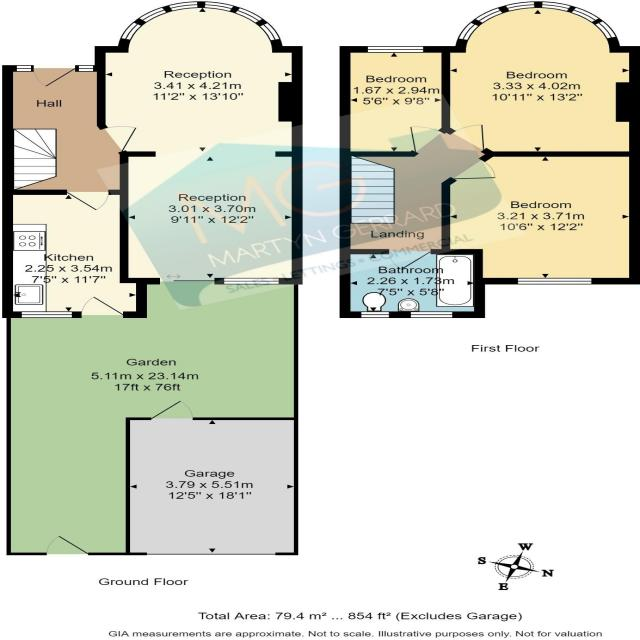DOOR: (61, 189, 113, 212), (446, 123, 487, 152), (76, 294, 125, 318), (386, 249, 437, 272), (99, 124, 139, 153), (448, 157, 498, 180), (407, 125, 446, 152), (33, 65, 77, 88)
ROOM: (94, 0, 303, 285), (441, 0, 640, 157), (439, 150, 640, 284), (2, 189, 148, 318), (339, 46, 451, 157)
WINDOW: (117, 0, 284, 44), (456, 1, 620, 42), (517, 276, 594, 285), (221, 275, 282, 286), (365, 44, 425, 55), (20, 310, 74, 319), (409, 311, 454, 319), (360, 310, 391, 319), (16, 64, 32, 73), (78, 64, 94, 73)
